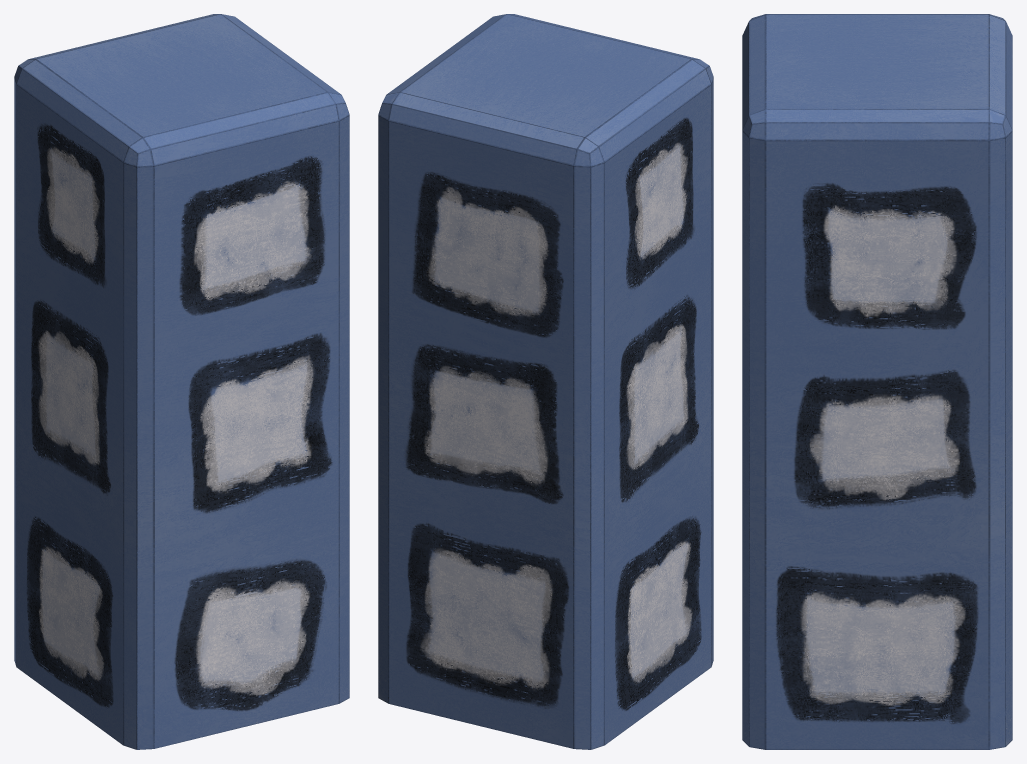
Rendered from plot_building.fbx.
3 views of the same model, side by side, from view 1: azimuth 30°, elevation 25°; view 2: azimuth 150°, elevation 25°; view 3: azimuth 270°, elevation 25° (orthographic). The views are drawn at different scales.
Parts seen in each view (by area): view 1: Cube; view 2: Cube; view 3: Cube.
Boxes of the visible parts, x1=… form: Cube: x1=14, y1=14, x2=349, y2=749; Cube: x1=378, y1=14, x2=713, y2=749; Cube: x1=742, y1=14, x2=1012, y2=749.
Bounding box in the file's own units: 200 × 514 × 200.
